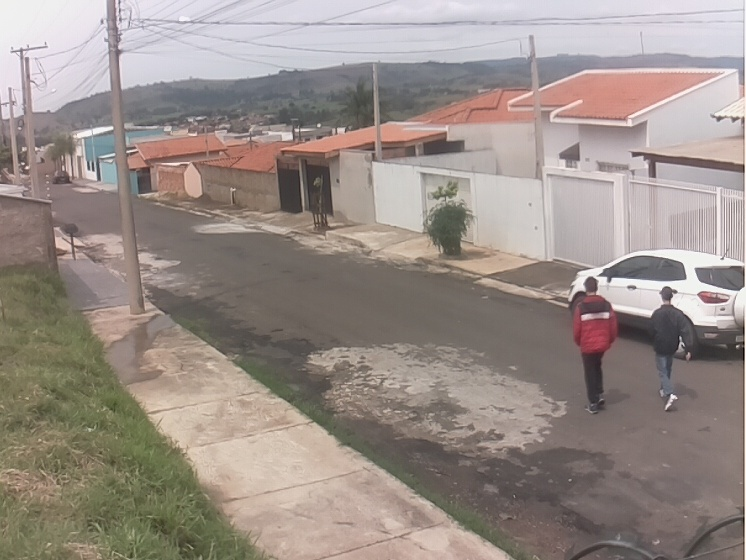person: (571, 276, 620, 415), (647, 285, 695, 413)
